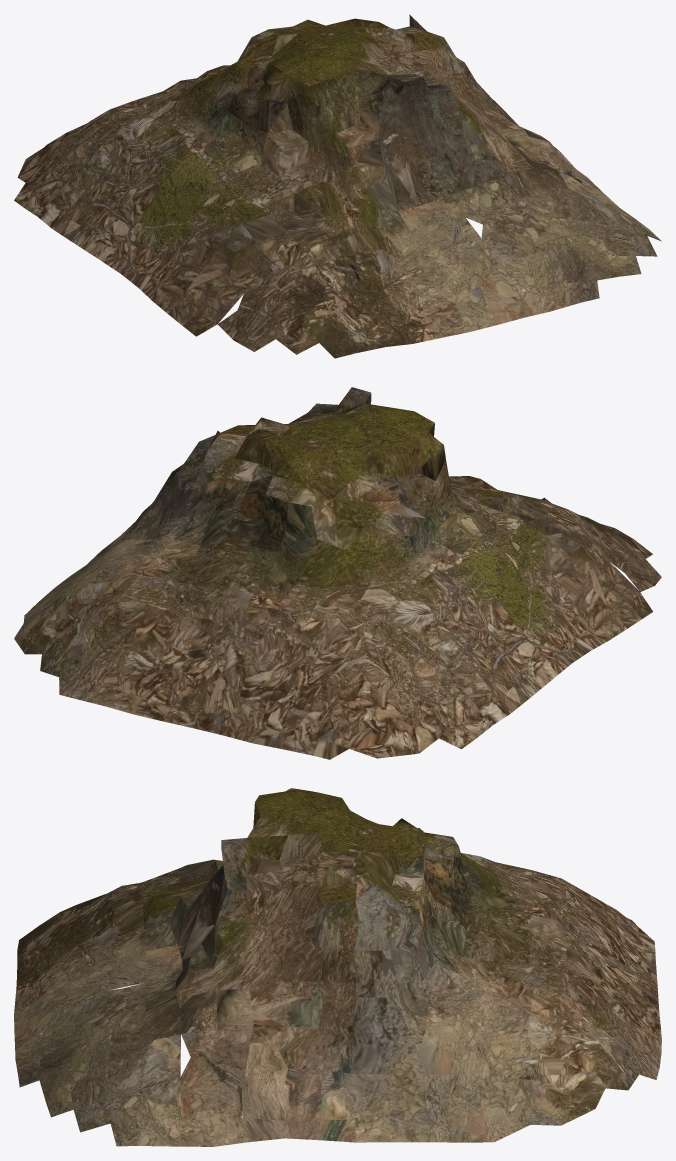
Rendered from toco.glb.
3 renders of one model, top to bottom at view 1: azimuth 30°, elevation 25°; view 2: azimuth 150°, elevation 25°; view 3: azimuth 270°, elevation 25°, orthographic. The views are drawn at different scales.
Parts seen in each view (by area): view 1: toco; view 2: toco; view 3: toco.
Boxes of the visible parts, left/top/right/bottom form: toco: left=14, top=14, right=661, bottom=358; toco: left=14, top=387, right=661, bottom=759; toco: left=14, top=788, right=661, bottom=1146.
Bounding box in the file's own units: 1.4 × 0.5524 × 1.57.
Materials: 1 (1 with a texture image).
